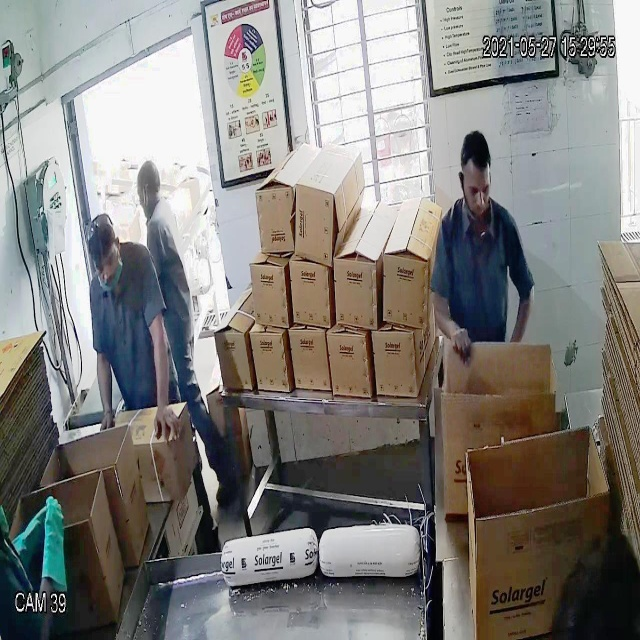Sin_gafas: (452, 169, 498, 204), (87, 244, 126, 283)
